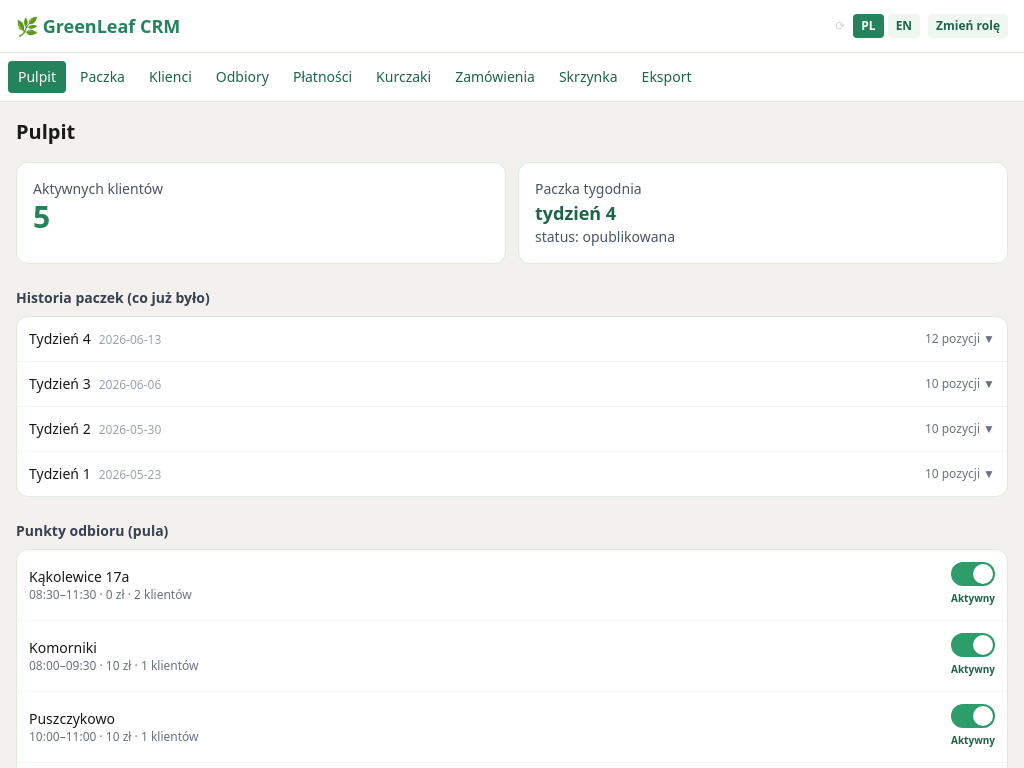
Test: PackageBuilder — sekcja "Paczka tygodnia" w AdminShell › pokazuje builder z selektorem produktu i przyciskiem publikacji
This screenshot has width=1024, height=768.
Click the button "Paczka" at (102, 77), box left=70, top=61, right=135, bottom=93
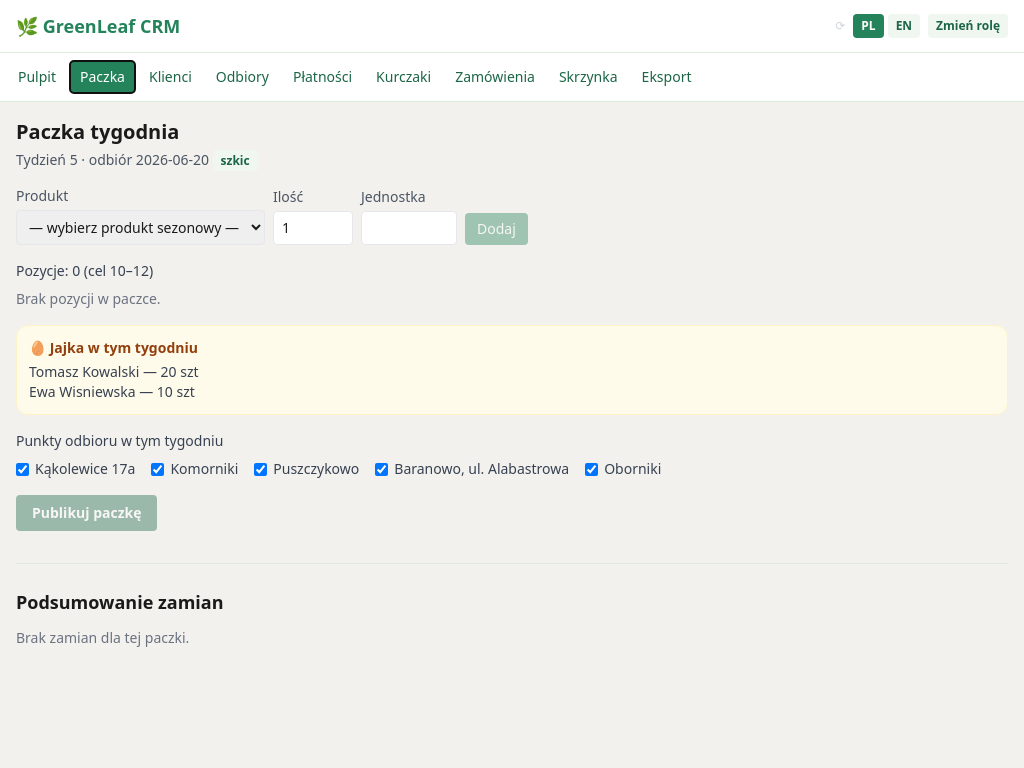
expect the dropdown labelled "Produkt" is shown: met, box left=16, top=210, right=265, bottom=245
expect the button "Publikuj paczkę" is shown: met, box left=16, top=495, right=158, bottom=531
